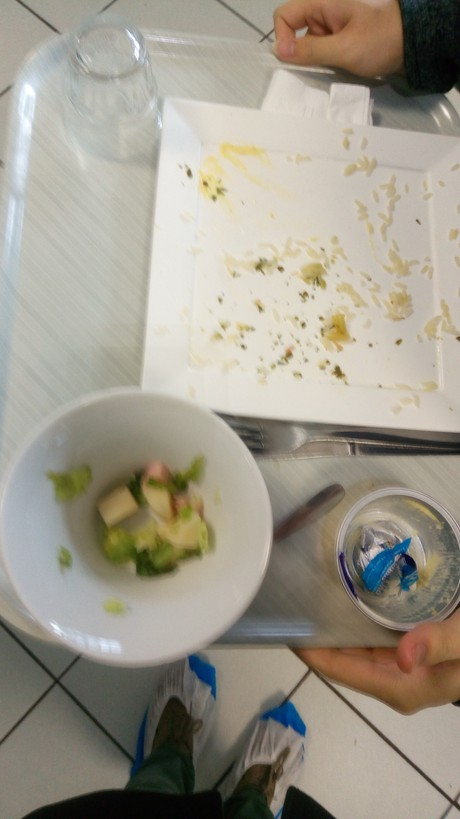cup: (51, 14, 187, 177)
cutlery: (224, 411, 460, 472)
orga: (64, 466, 229, 588)
trash: (341, 487, 460, 626)
